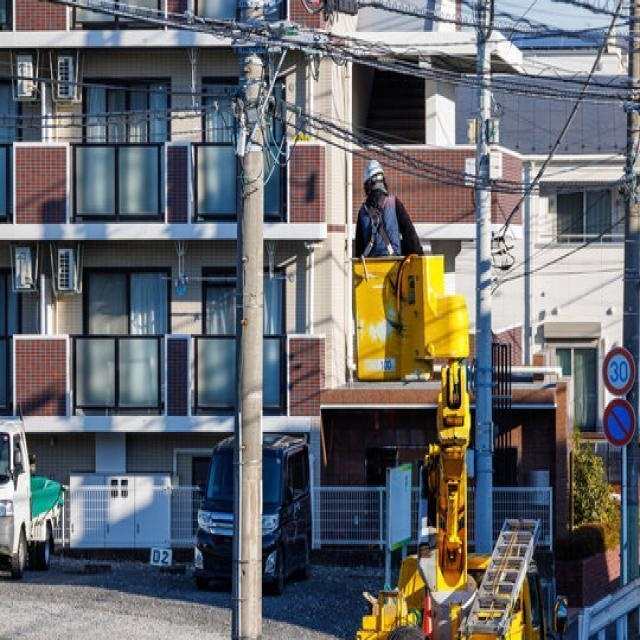Arnes_seguridad: (360, 197, 396, 257)
